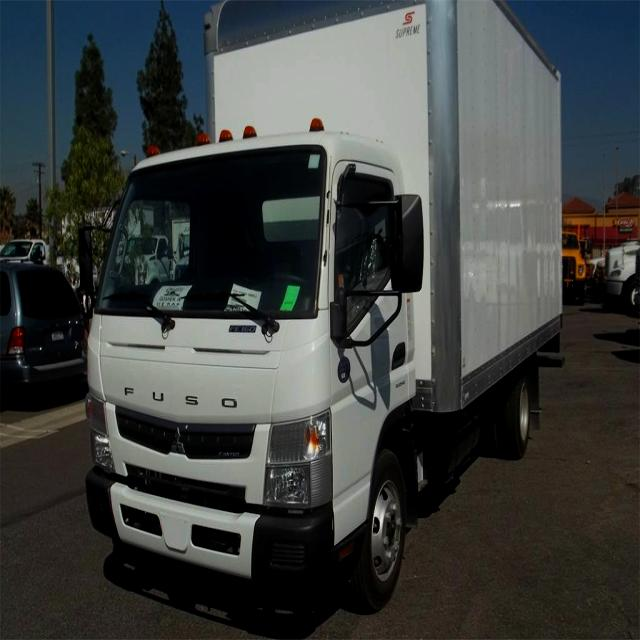truck: (79, 1, 563, 605)
